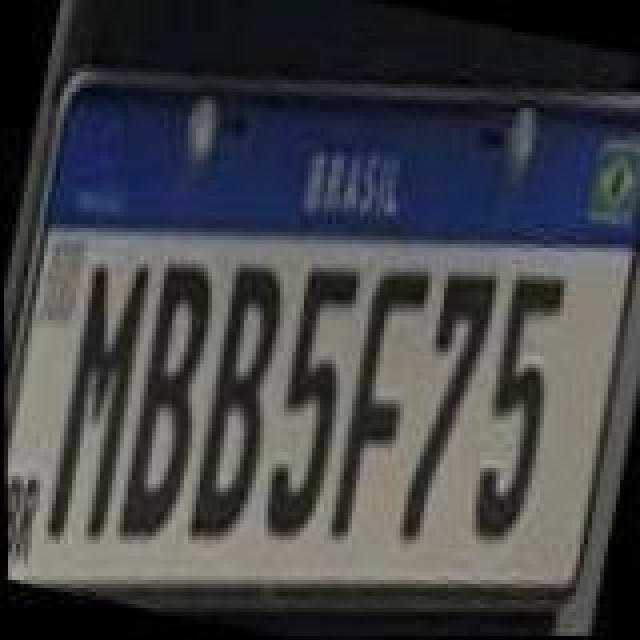5: (250, 258, 366, 546), (458, 268, 574, 552)
7: (386, 262, 502, 550)
B: (104, 264, 224, 552), (176, 262, 296, 550)
F: (318, 262, 434, 550)
M: (32, 252, 160, 548)
